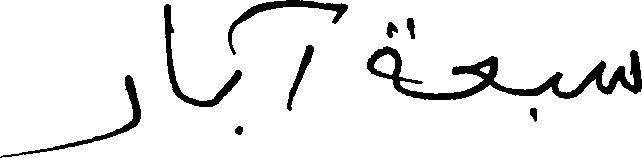X: (0, 70, 140, 157), (286, 0, 313, 115), (368, 17, 401, 97), (451, 51, 496, 104), (598, 45, 641, 99), (163, 0, 179, 102), (231, 9, 242, 139), (549, 67, 564, 103)
